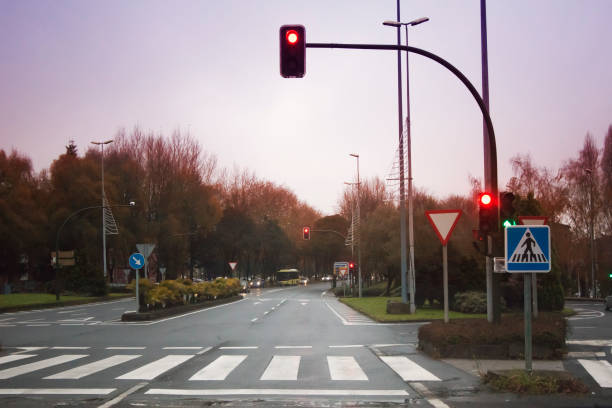trafficlight: (282, 28, 307, 79)
zebracross: (7, 341, 416, 389)
